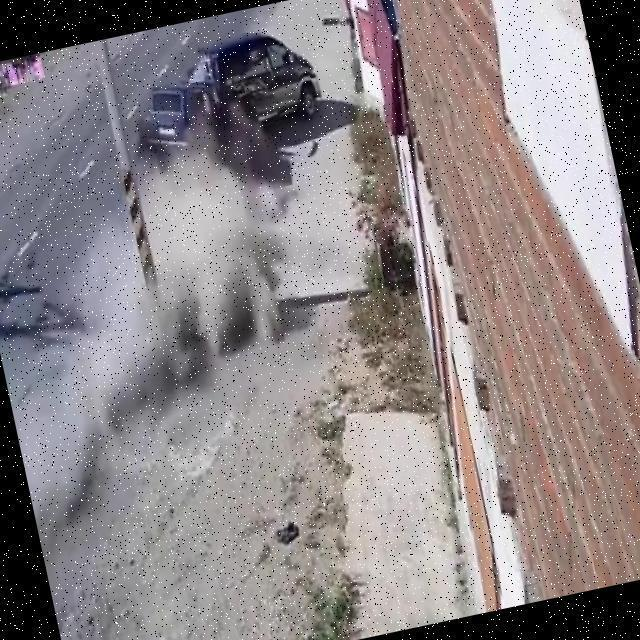accident: (148, 38, 284, 163)
